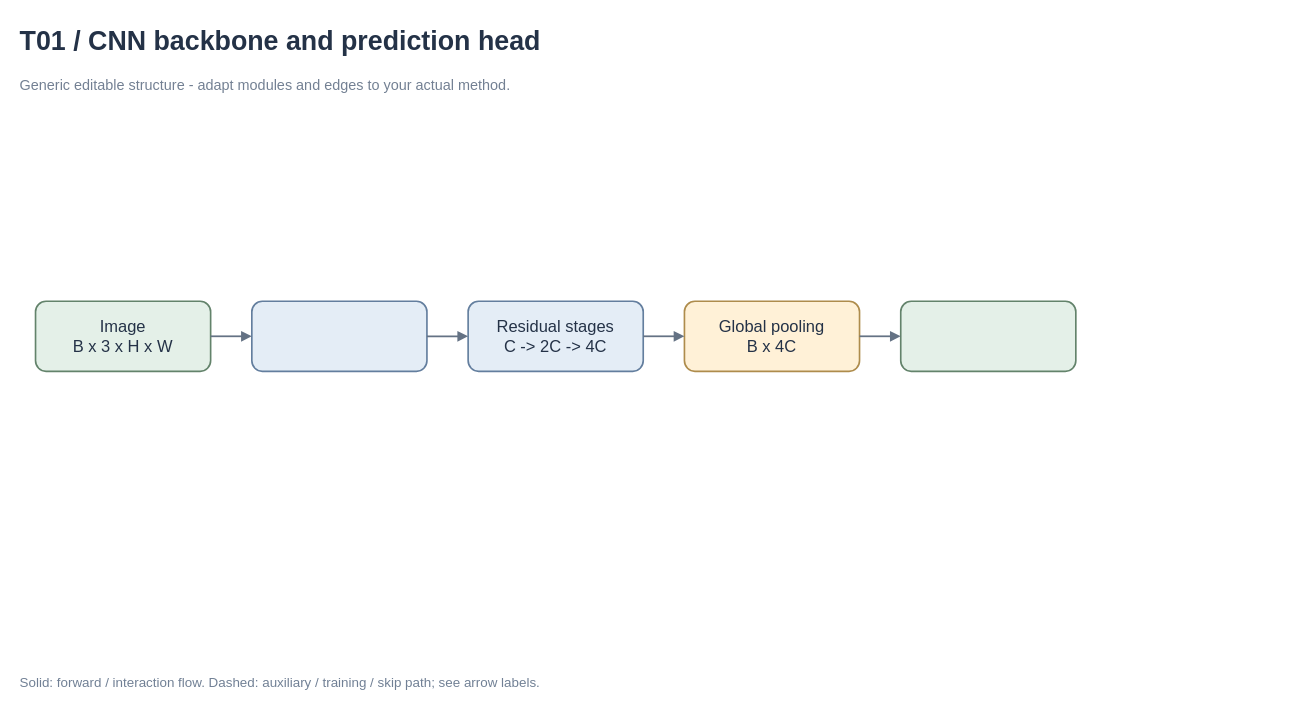
This 1302x716 diagram has some shape labels left out. Here are the shapes that lost their labels. From the top down, the centre of each, then its label:
the point at 338,336: Conv stem B x C x H/4 x W/4
the point at 987,336: Prediction head B x K
